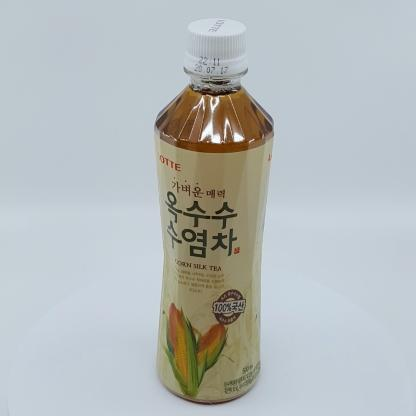--------500ML: (154, 16, 274, 406)
